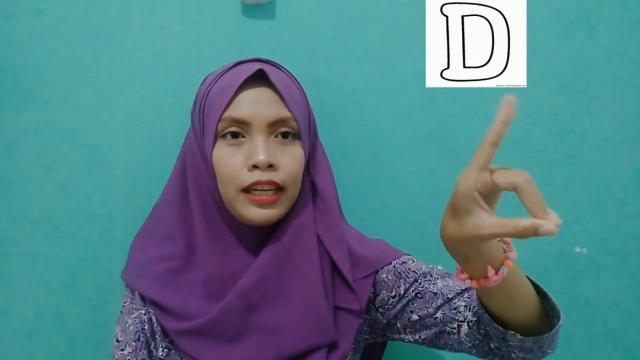D: (431, 92, 565, 248)
